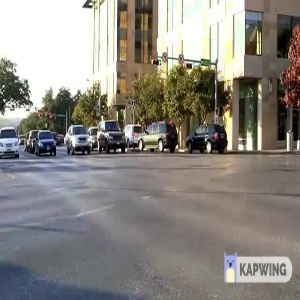car: (31, 129, 59, 159)
suv: (182, 120, 233, 154), (132, 117, 180, 153), (94, 117, 129, 155), (61, 121, 94, 155)
